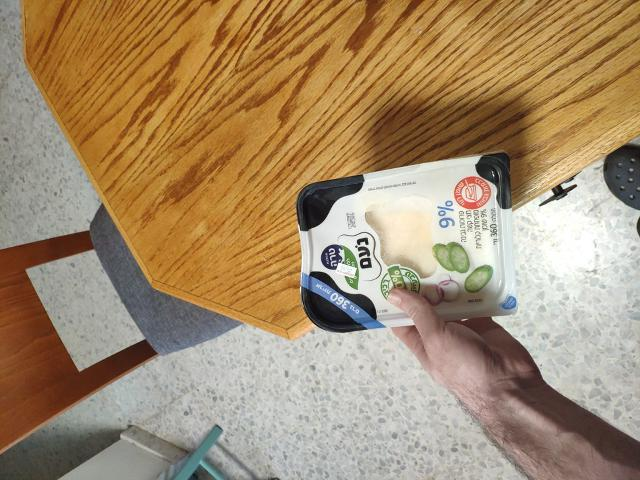cheese: (266, 152, 539, 341)
